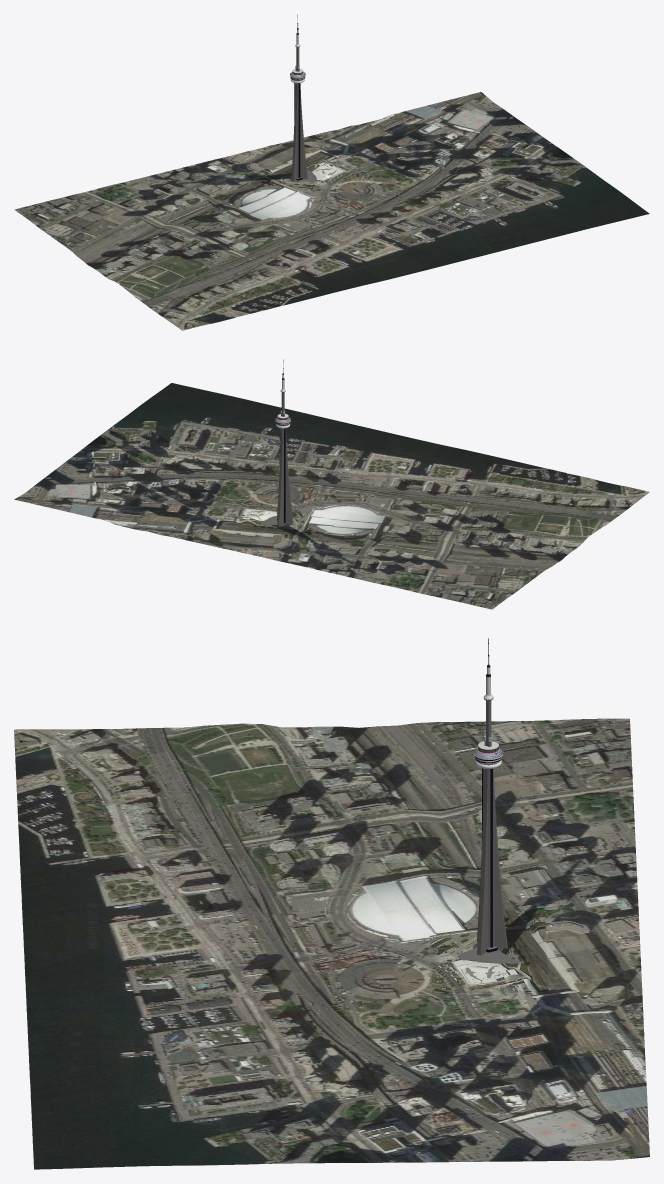
The model's file is cn-tower.fbx.
3 renders of one model, top to bottom at view 1: azimuth 30°, elevation 25°; view 2: azimuth 150°, elevation 25°; view 3: azimuth 270°, elevation 25°, orthographic. The views are drawn at different scales.
Parts seen in each view (by area): view 1: Untitled2, Object001, Main Tri Support002; view 2: Untitled2, Object001, Main Tri Support001; view 3: Untitled2, Object001, Main Tri Support003.
Boxes of the visible parts, <box> form: Untitled2: <box>14,92,649,330</box>; Object001: <box>242,154,361,199</box>; Main Tri Support002: <box>291,83,307,181</box>; Untitled2: <box>14,383,649,609</box>; Object001: <box>219,500,338,541</box>; Main Tri Support001: <box>277,428,293,526</box>; Untitled2: <box>14,718,649,1169</box>; Object001: <box>428,906,548,993</box>; Main Tri Support003: <box>477,768,507,955</box>.
Size of the model in its own units: 5708 by 1917 by 3481.
11 materials, 2 textured.
